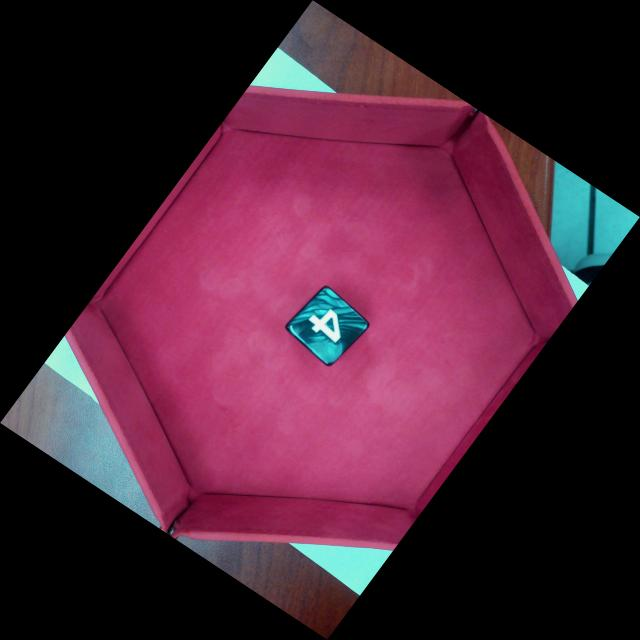dice: (289, 287, 371, 368)
